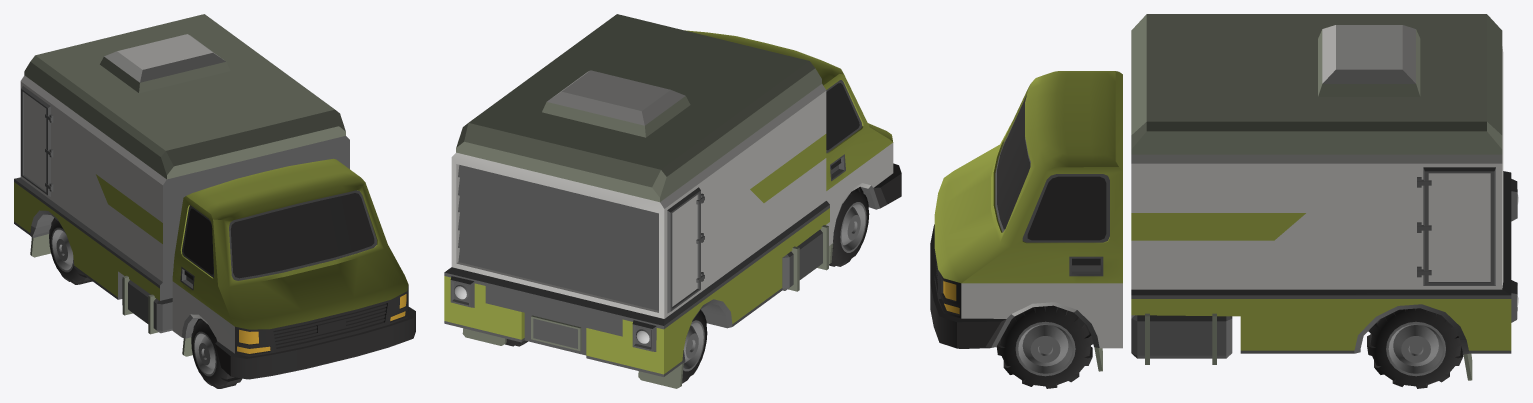
The model's file is Truck.obj.
3 renders of one model, left to right at view 1: azimuth 30°, elevation 25°; view 2: azimuth 150°, elevation 25°; view 3: azimuth 270°, elevation 25°, orthographic. The views are drawn at different scales.
Parts seen in each view (by area): view 1: obj1, obj4, obj5, obj2; view 2: obj1, obj4, obj5; view 3: obj1, obj6, obj5.
Boxes of the visible parts, left/top/right/bottom form: obj1: left=14, top=14, right=415, bottom=379; obj4: left=191, top=318, right=241, bottom=388; obj5: left=49, top=218, right=92, bottom=284; obj2: left=237, top=294, right=406, bottom=353; obj1: left=444, top=14, right=901, bottom=388; obj4: left=829, top=187, right=869, bottom=266; obj5: left=505, top=309, right=707, bottom=383; obj1: left=930, top=14, right=1517, bottom=380; obj6: left=996, top=305, right=1093, bottom=388; obj5: left=1367, top=308, right=1463, bottom=388.
Size of the model in its own units: 2.71 by 2.88 by 5.26.
3 materials, 1 textured.
